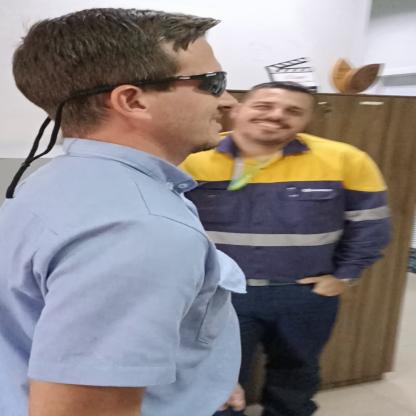Operacional: (177, 136, 397, 282)
